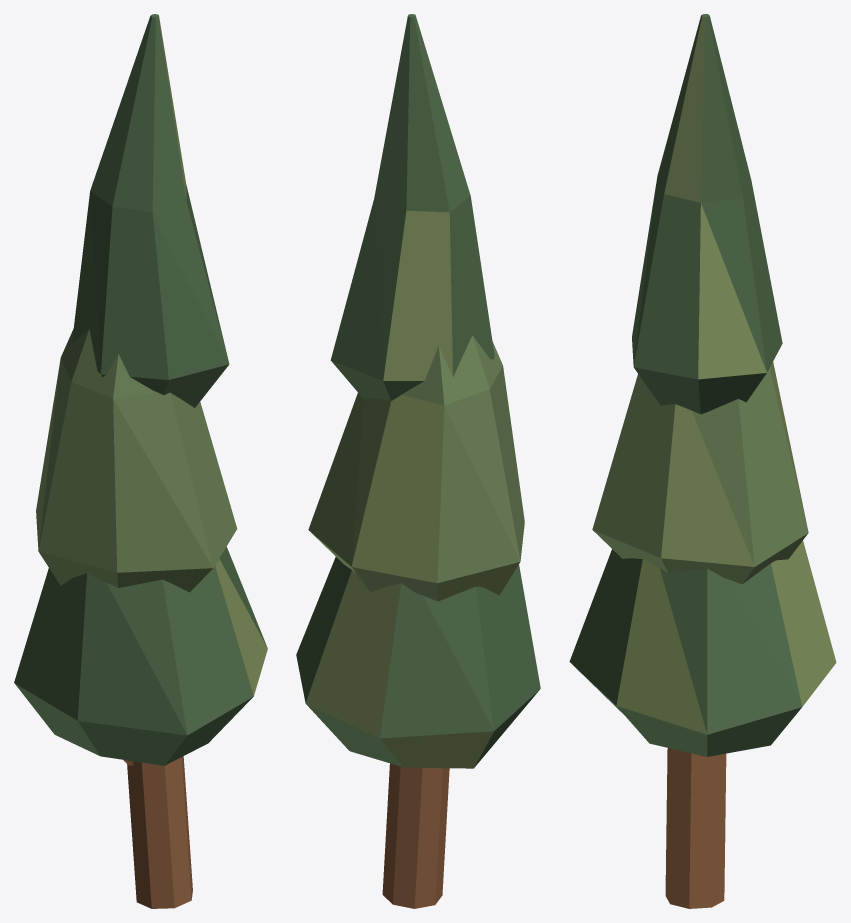
The model's file is tree_cypress_v1530_02.glb.
The picture shows the model from 3 angles, left to right: view 1: azimuth 30°, elevation 25°; view 2: azimuth 150°, elevation 25°; view 3: azimuth 270°, elevation 25°; orthographic projection.
Visible parts, largest first — view 1: tree_cypress_v1530_02; view 2: tree_cypress_v1530_02; view 3: tree_cypress_v1530_02.
Part boxes in pixels (<box>): tree_cypress_v1530_02: <box>14,14,267,908</box>; tree_cypress_v1530_02: <box>296,14,540,908</box>; tree_cypress_v1530_02: <box>569,14,836,908</box>.
Size of the model in its own units: 0.7295 by 2.71 by 0.744.
